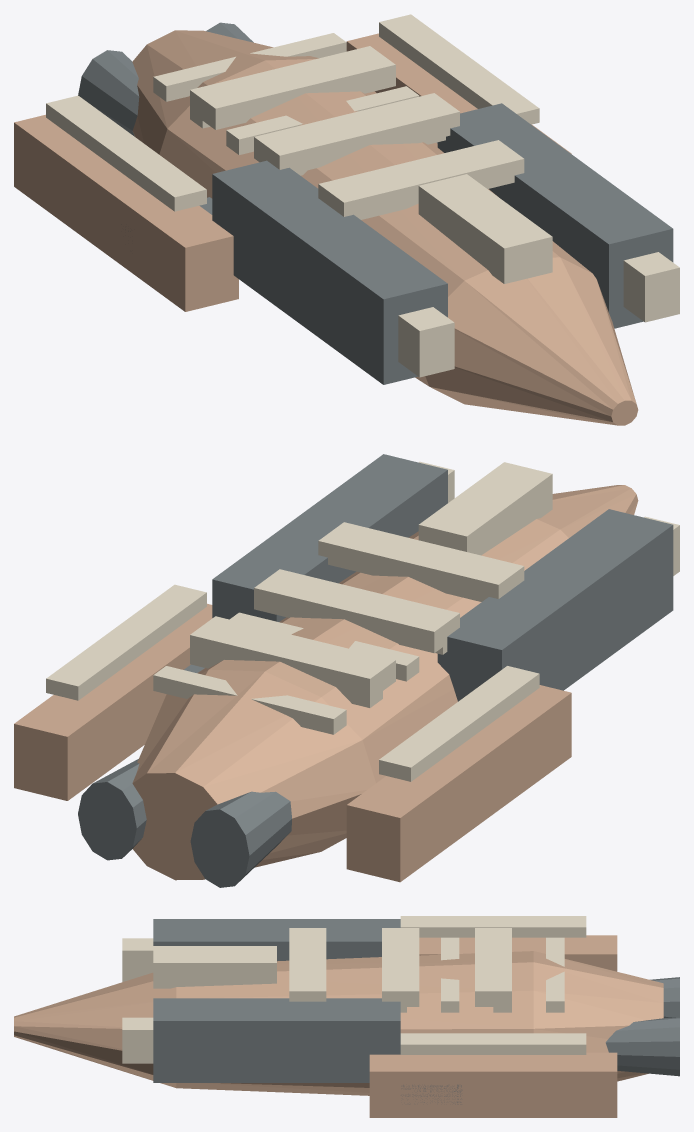
The picture shows the model from 3 angles, top to bottom: view 1: azimuth 30°, elevation 25°; view 2: azimuth 150°, elevation 25°; view 3: azimuth 270°, elevation 25°; orthographic projection. The views are drawn at different scales.
Size of the model in its own units: 2.33 by 1.09 by 4.82.
